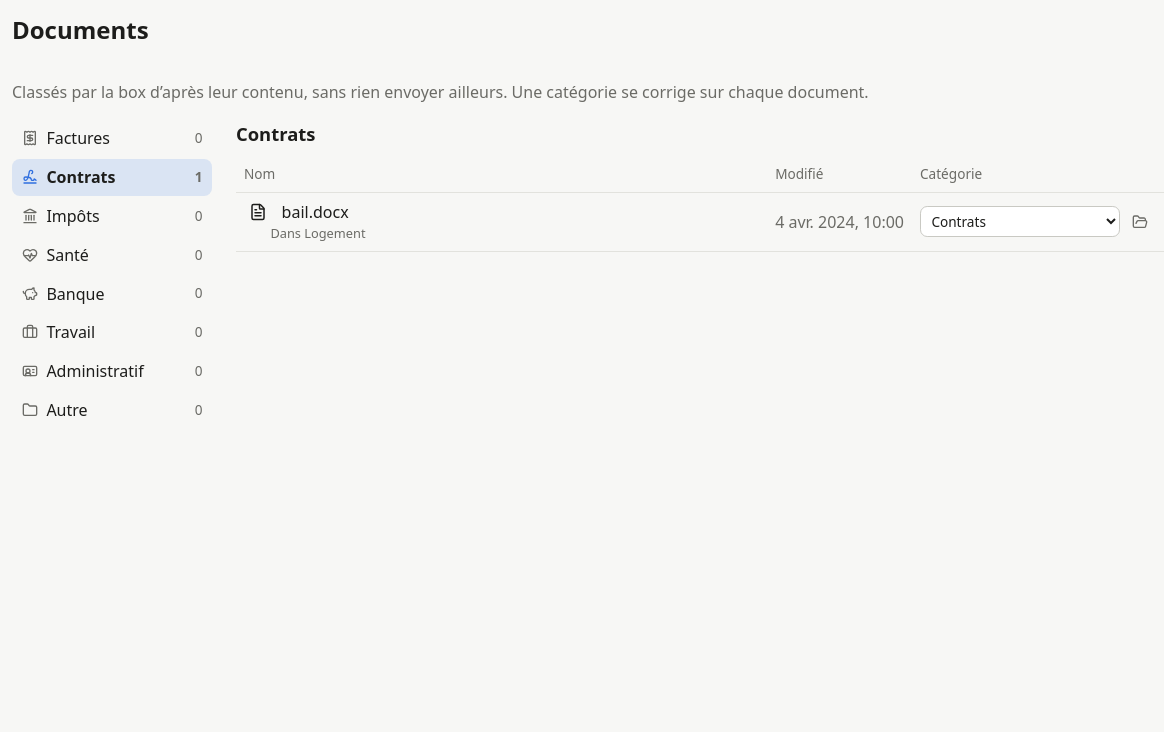
Documents › shows a corrected document with its choice, and can give it back to the box
Select "Autre (automatique)" in the dropdown named "Catégorie de bail.docx" at [1020, 222], box [920,206,1120,237]
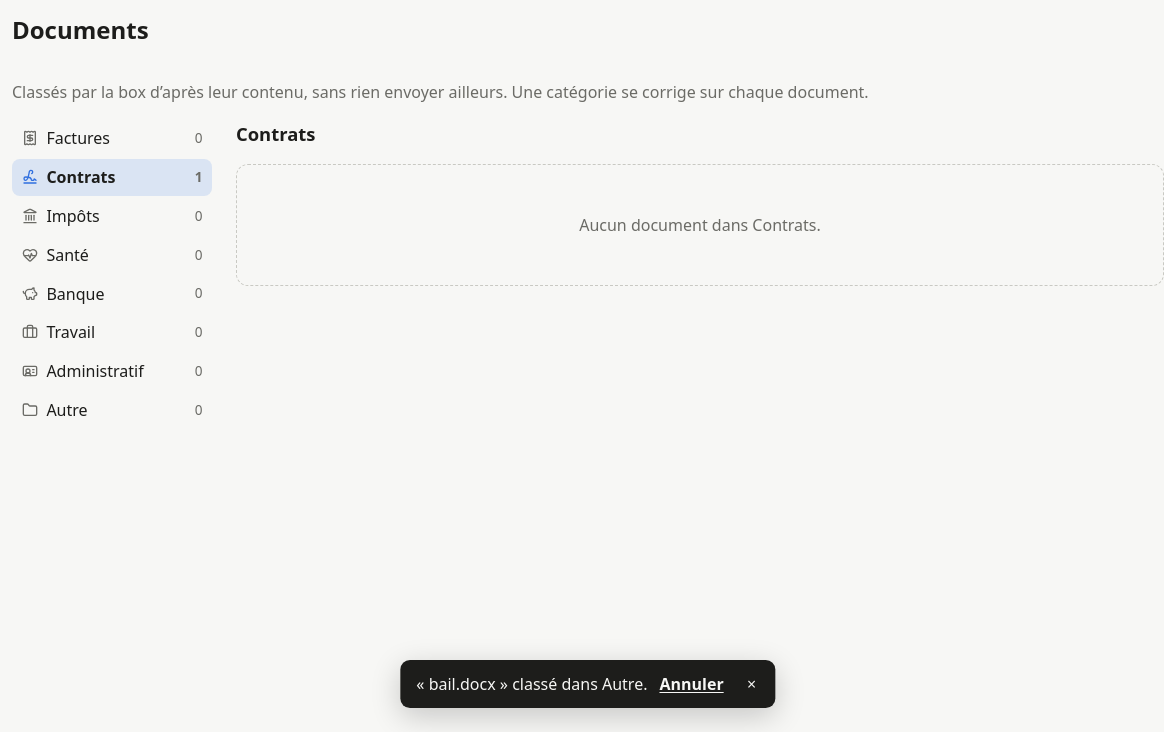
Now the message shows "« bail.docx » classé dans Autre.", box [400,660,776,708]
